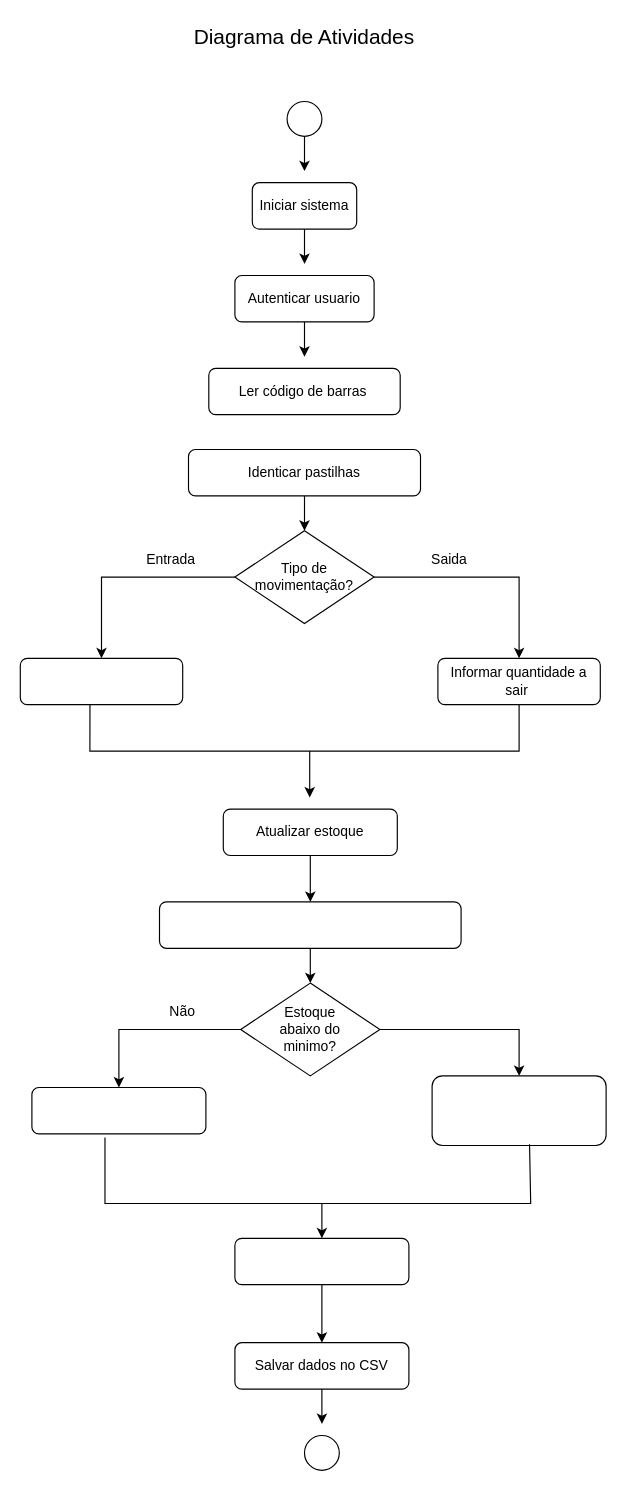
Some shapes in this 626 by 1491 pixel diagram are drawn without their labels. The box of each missing label's shape, as (x1, y1, x2, y2) in pixels:
Estoque normal: (31, 1086, 206, 1134)
Gerar alerta de estoque baixo: (431, 1075, 606, 1146)
Informar quantidade a entrar: (19, 657, 183, 705)
Registrar movimentação: (234, 1237, 409, 1285)
Verificar estoque minimo: (158, 901, 461, 948)
